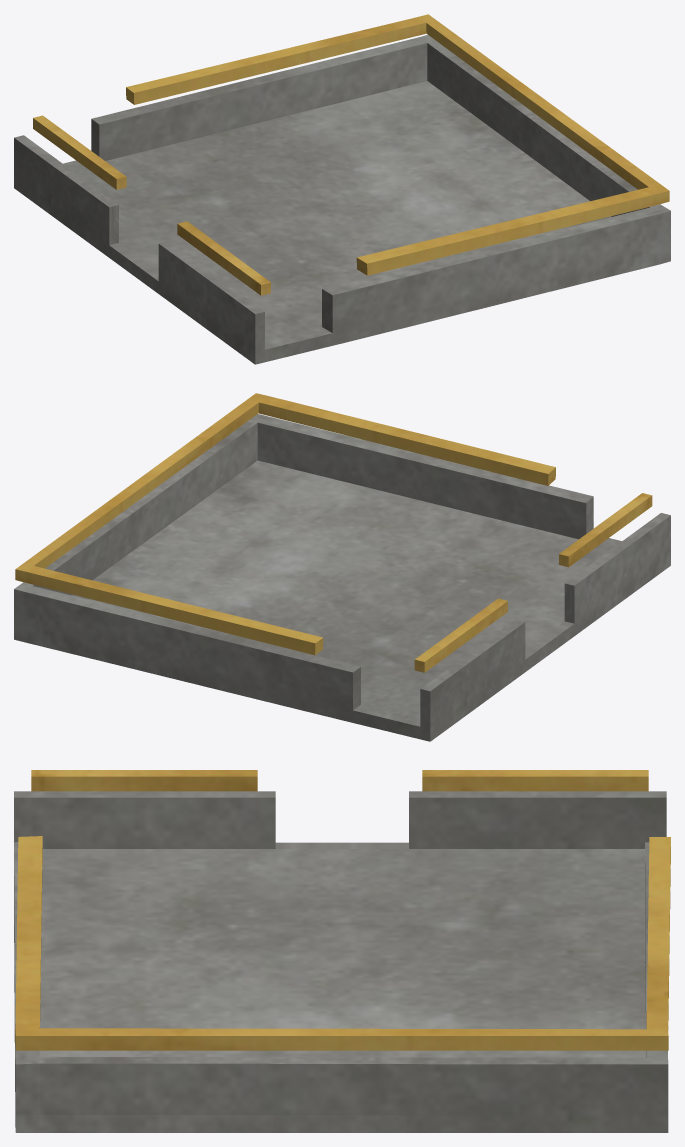
The model's file is SmallMetalPillar5.fbx.
3 renders of one model, top to bottom at view 1: azimuth 30°, elevation 25°; view 2: azimuth 150°, elevation 25°; view 3: azimuth 270°, elevation 25°, orthographic. The views are drawn at different scales.
Visible parts, largest first — view 1: WalkingBridge5; view 2: WalkingBridge5; view 3: WalkingBridge5.
Part boxes in pixels (bbox=[...]): WalkingBridge5: bbox=[14, 14, 670, 364]; WalkingBridge5: bbox=[14, 393, 670, 741]; WalkingBridge5: bbox=[14, 770, 670, 1132].
Bounding box in the file's own units: 945 × 936 × 155.
